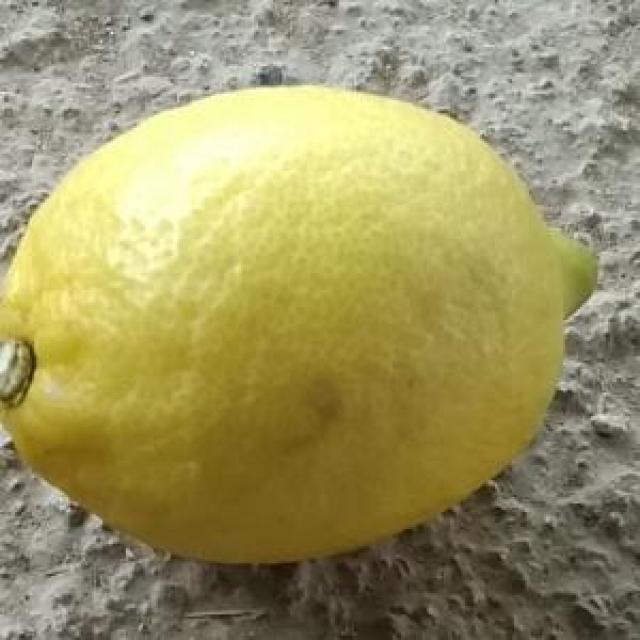lemon: (2, 81, 596, 568)
